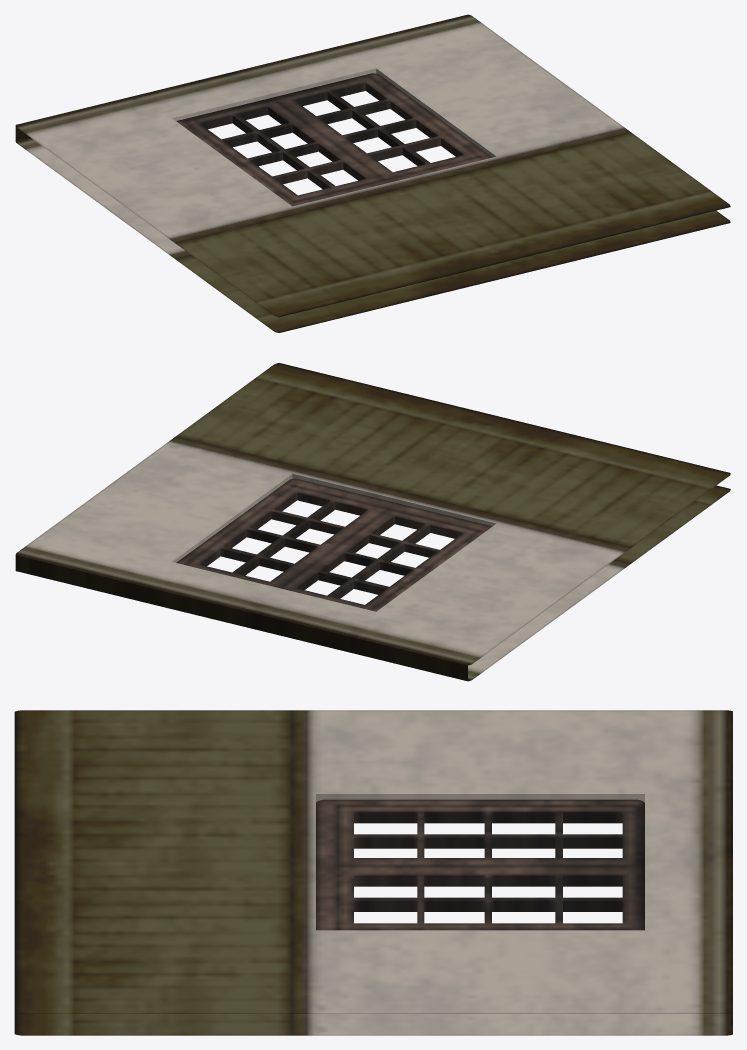
The model's file is SM_EC_House_Wall_Window_1_3x3_1.fbx.
3 views of the same model, one above another, from view 1: azimuth 30°, elevation 25°; view 2: azimuth 150°, elevation 25°; view 3: azimuth 270°, elevation 25° (orthographic). The views are drawn at different scales.
Visible parts, largest first — view 1: SM_EC_House_Wall_Window_1_3x3_1; view 2: SM_EC_House_Wall_Window_1_3x3_1; view 3: SM_EC_House_Wall_Window_1_3x3_1.
Boxes of the visible parts, <box> form: SM_EC_House_Wall_Window_1_3x3_1: <box>15,14,730,332</box>; SM_EC_House_Wall_Window_1_3x3_1: <box>15,363,730,681</box>; SM_EC_House_Wall_Window_1_3x3_1: <box>14,710,732,1035</box>.
Bounding box in the file's own units: 3 × 3 × 0.1.
